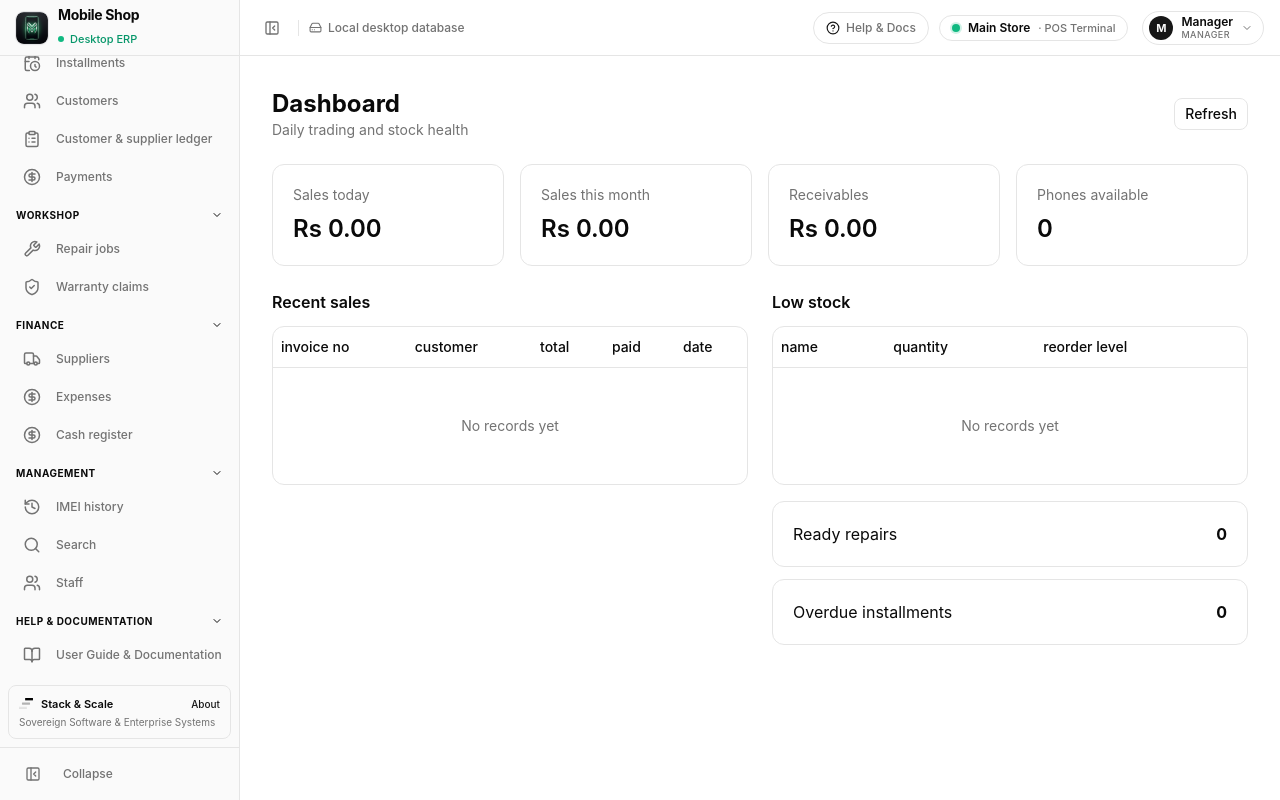
it: desktop interface › shows manager-only controls according to backend permissions
(page scrolled)
Expected: the text "Sales today" is shown, x1=293 y1=186 x2=370 y2=203
What coordinates should you click on to do the following:
click the button "Staff"
I would click on:
 (120, 583)
Its box is x1=8 y1=565 x2=231 y2=601.
(page scrolled)
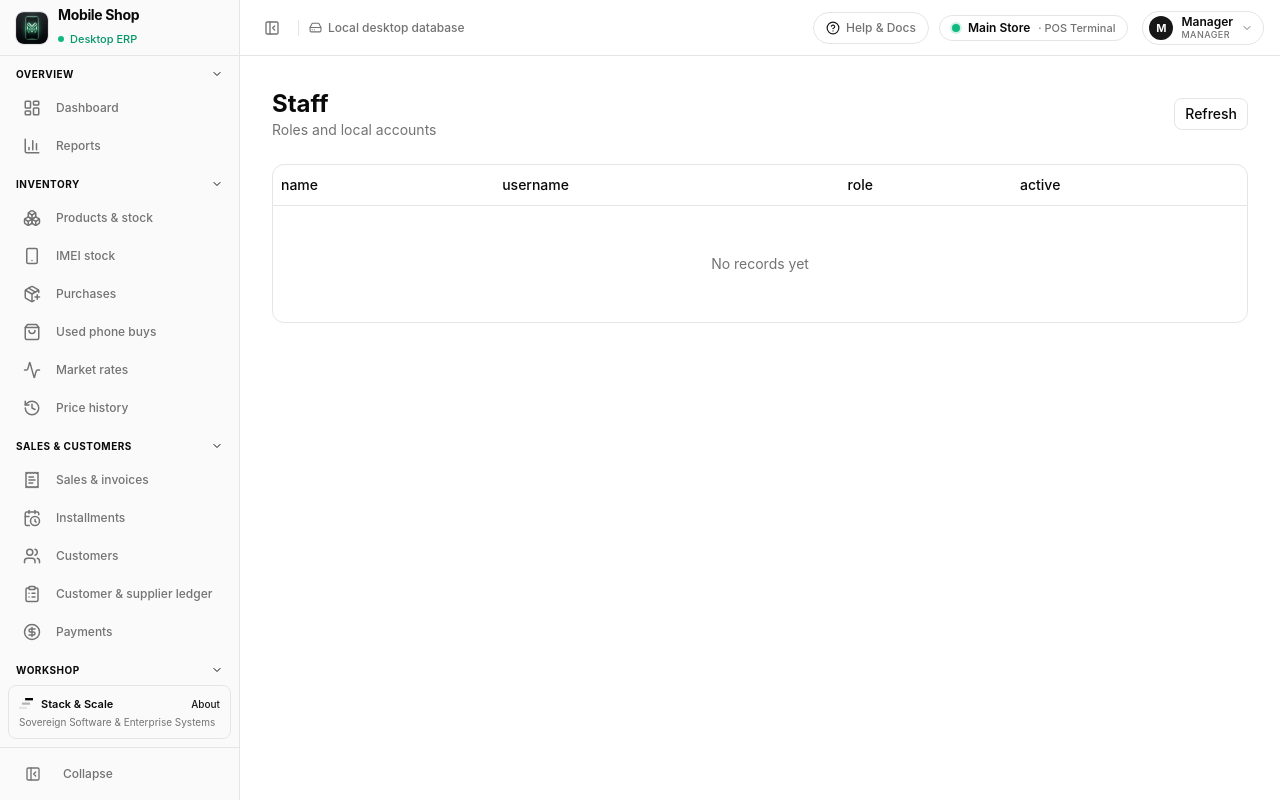
Expected: the button "Add new" is not shown
What coordinates should you click on to do the following:
click the button "Market rates"
I would click on:
 (120, 370)
Its box is x1=8 y1=352 x2=231 y2=388.
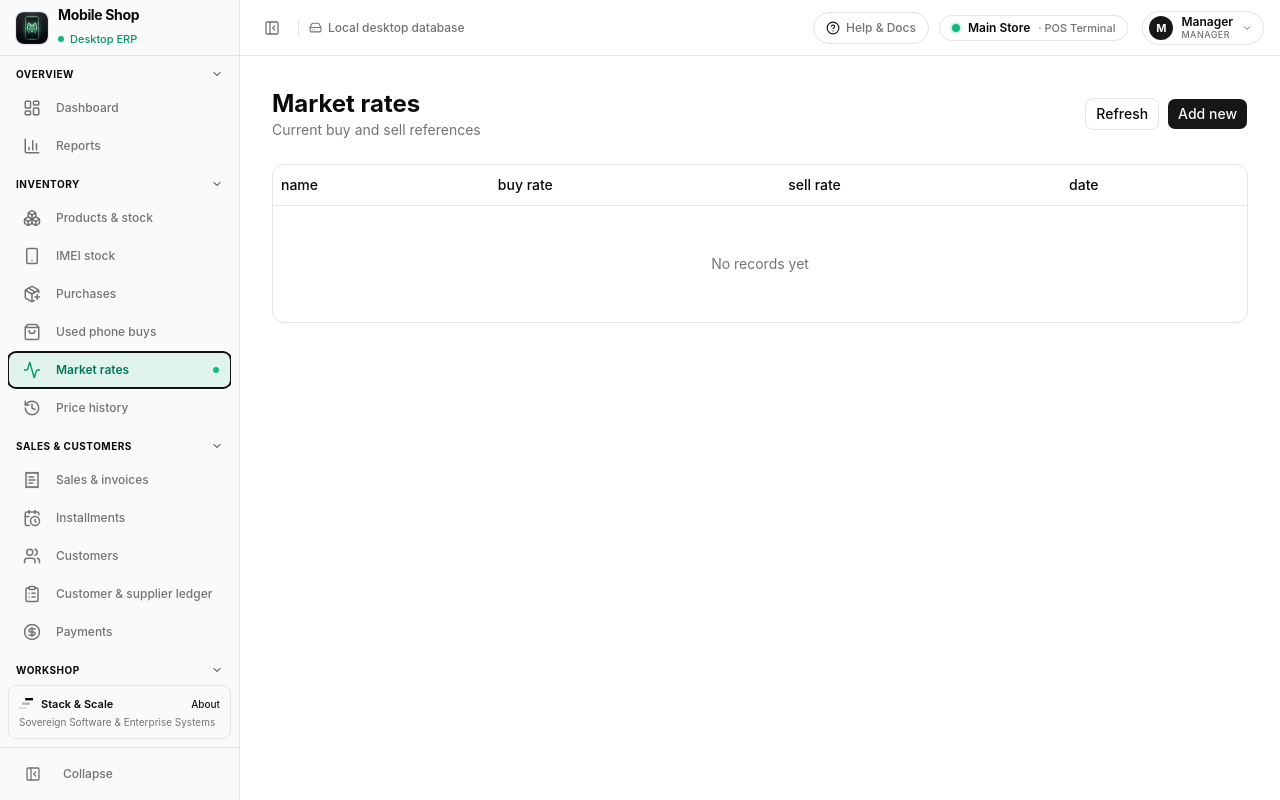
Result: the button "Add new" is shown at x1=1167 y1=98 x2=1248 y2=130
